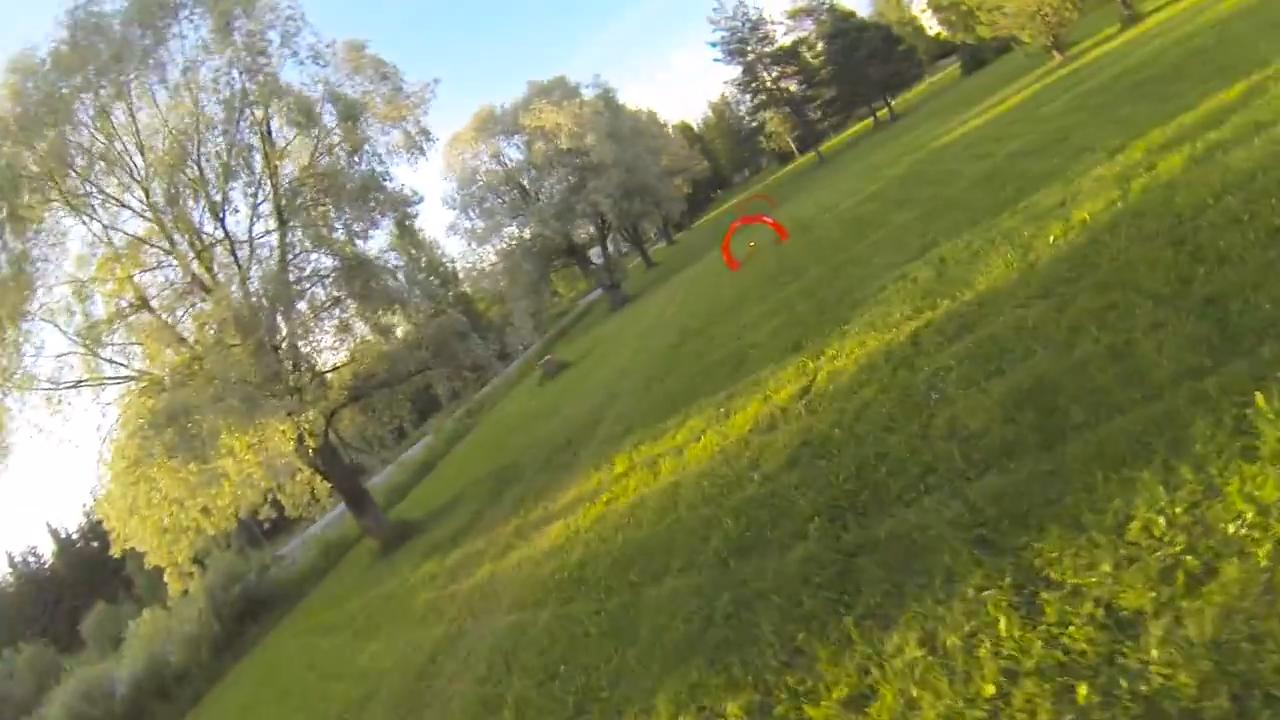gate: (718, 216, 789, 272)
